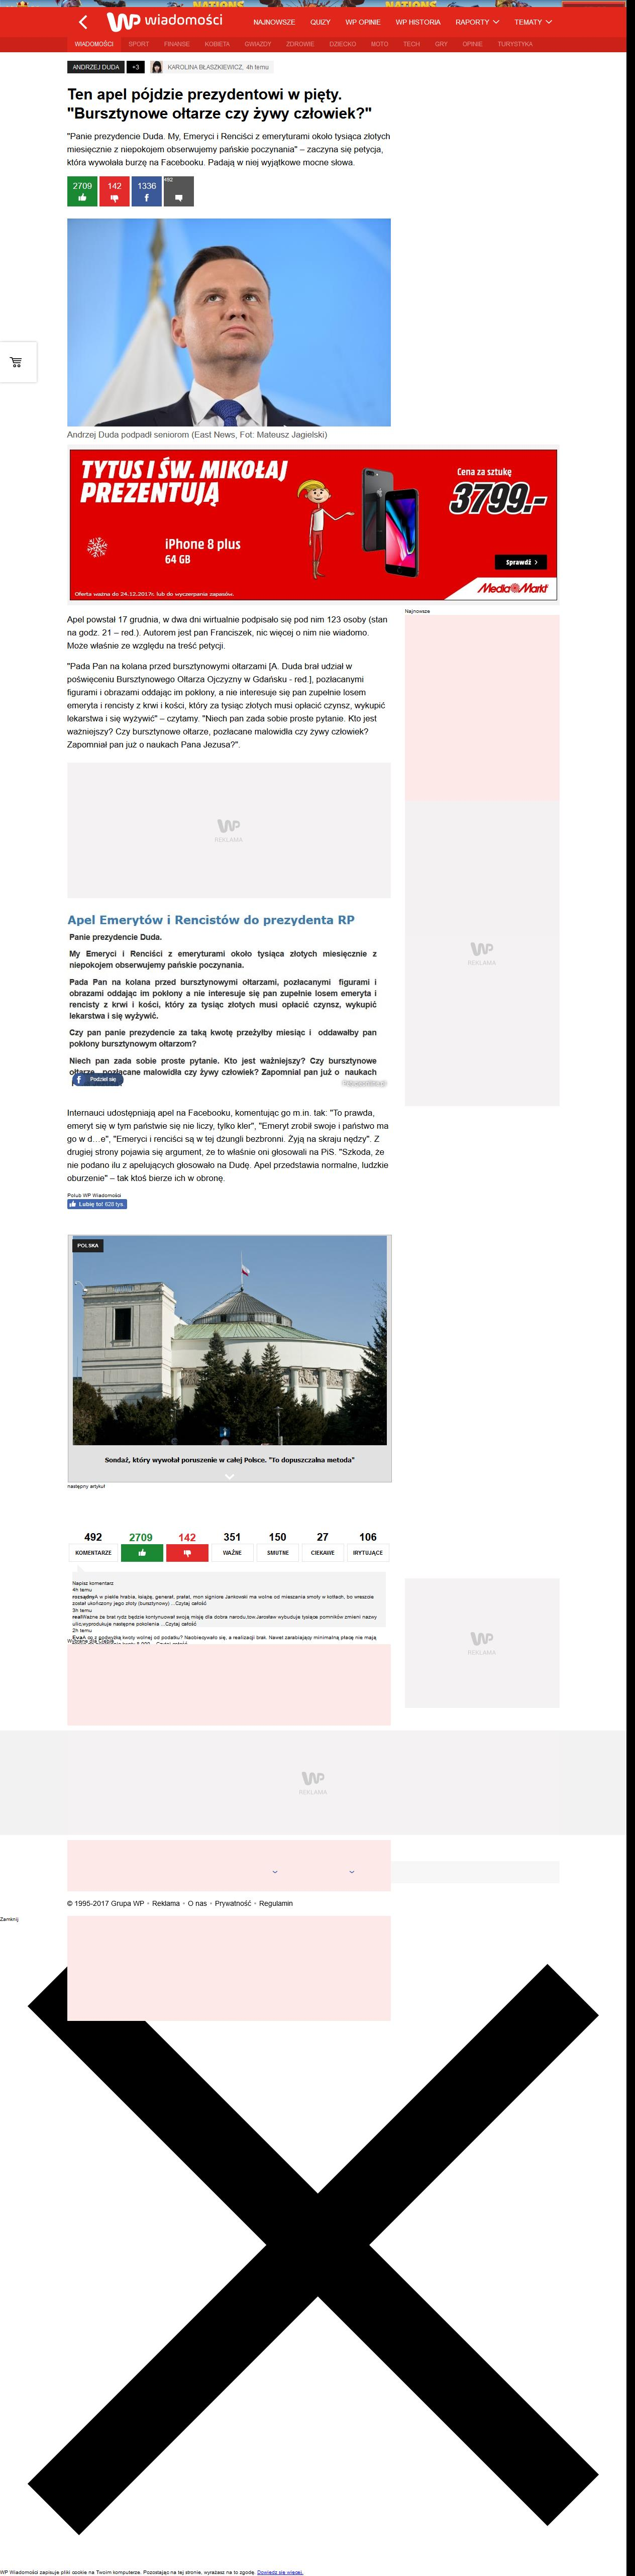title: (64, 87, 375, 126)
